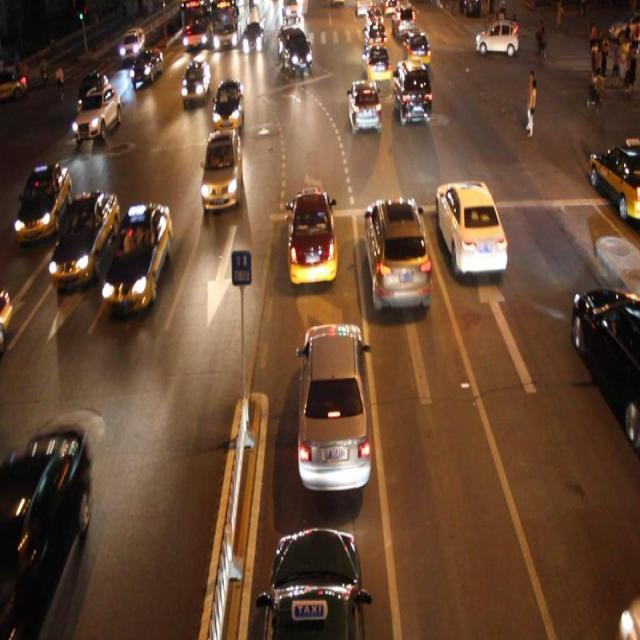car: (0, 430, 89, 640), (298, 321, 372, 490), (261, 526, 367, 640), (569, 283, 640, 446), (362, 195, 431, 311), (104, 201, 172, 307), (435, 181, 507, 273), (53, 187, 117, 288), (286, 185, 336, 286), (586, 134, 640, 217), (17, 163, 70, 241), (200, 130, 241, 214), (74, 85, 120, 142), (394, 57, 430, 126), (346, 80, 381, 132), (278, 27, 311, 74), (212, 82, 243, 130), (180, 61, 211, 105), (76, 70, 109, 105), (130, 49, 163, 84), (363, 44, 389, 84), (1, 282, 13, 350)
